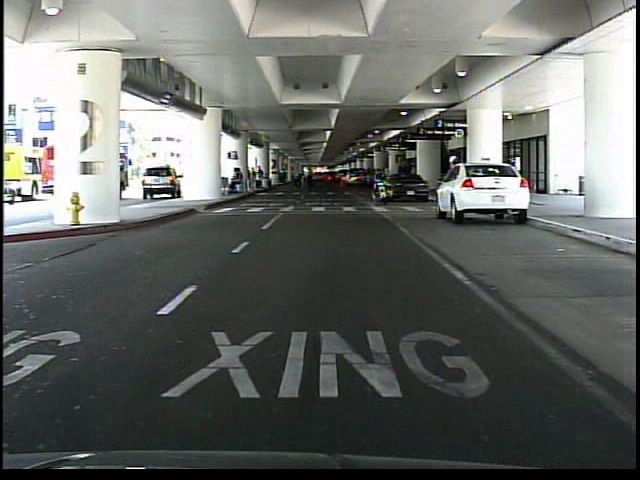person: (444, 151, 462, 216)
